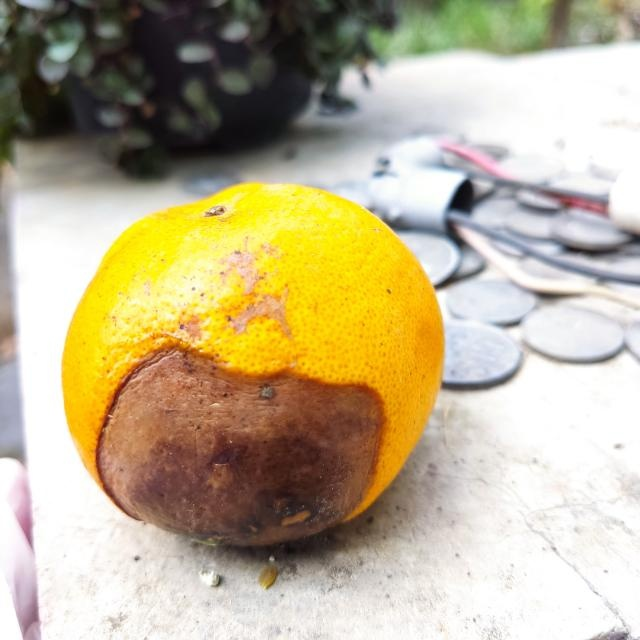agrume: (59, 177, 445, 556)
